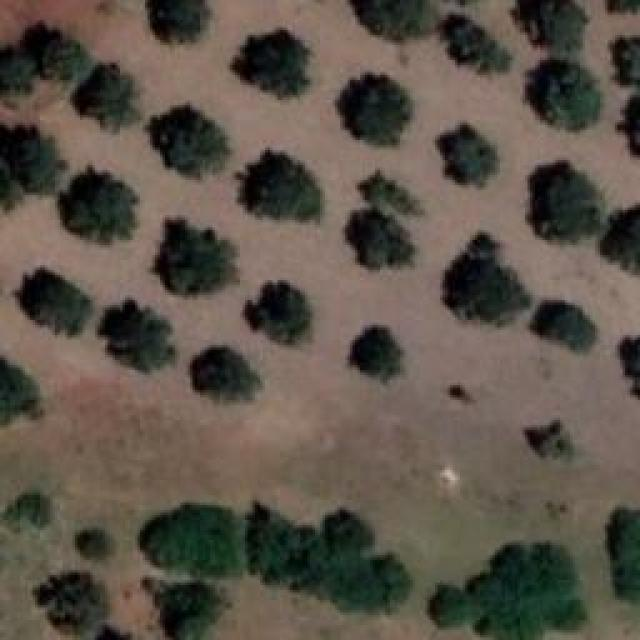Tree: (248, 503, 415, 614), (465, 542, 593, 640), (148, 503, 250, 578), (525, 165, 610, 245), (440, 250, 528, 325), (58, 165, 142, 243), (230, 27, 318, 98), (150, 215, 234, 289), (340, 70, 413, 150), (73, 58, 151, 132), (525, 57, 605, 129), (0, 118, 62, 210), (148, 103, 225, 176), (143, 575, 228, 640), (240, 155, 318, 225), (100, 303, 176, 371), (33, 568, 110, 635), (188, 343, 269, 406), (347, 210, 418, 279), (509, 0, 593, 57), (444, 10, 512, 80), (433, 120, 500, 191), (15, 260, 88, 325), (527, 298, 599, 361), (345, 0, 445, 44), (602, 508, 639, 606), (248, 273, 304, 337), (25, 20, 87, 76), (348, 328, 408, 382), (360, 165, 420, 215), (147, 0, 213, 45), (0, 360, 41, 426), (605, 205, 640, 278), (0, 42, 34, 102), (325, 508, 370, 552), (525, 418, 576, 456), (615, 325, 639, 405), (607, 32, 640, 89), (430, 588, 472, 632), (18, 490, 55, 534), (75, 527, 118, 561), (620, 93, 640, 156), (470, 233, 501, 257), (602, 0, 639, 19), (448, 380, 475, 406)
